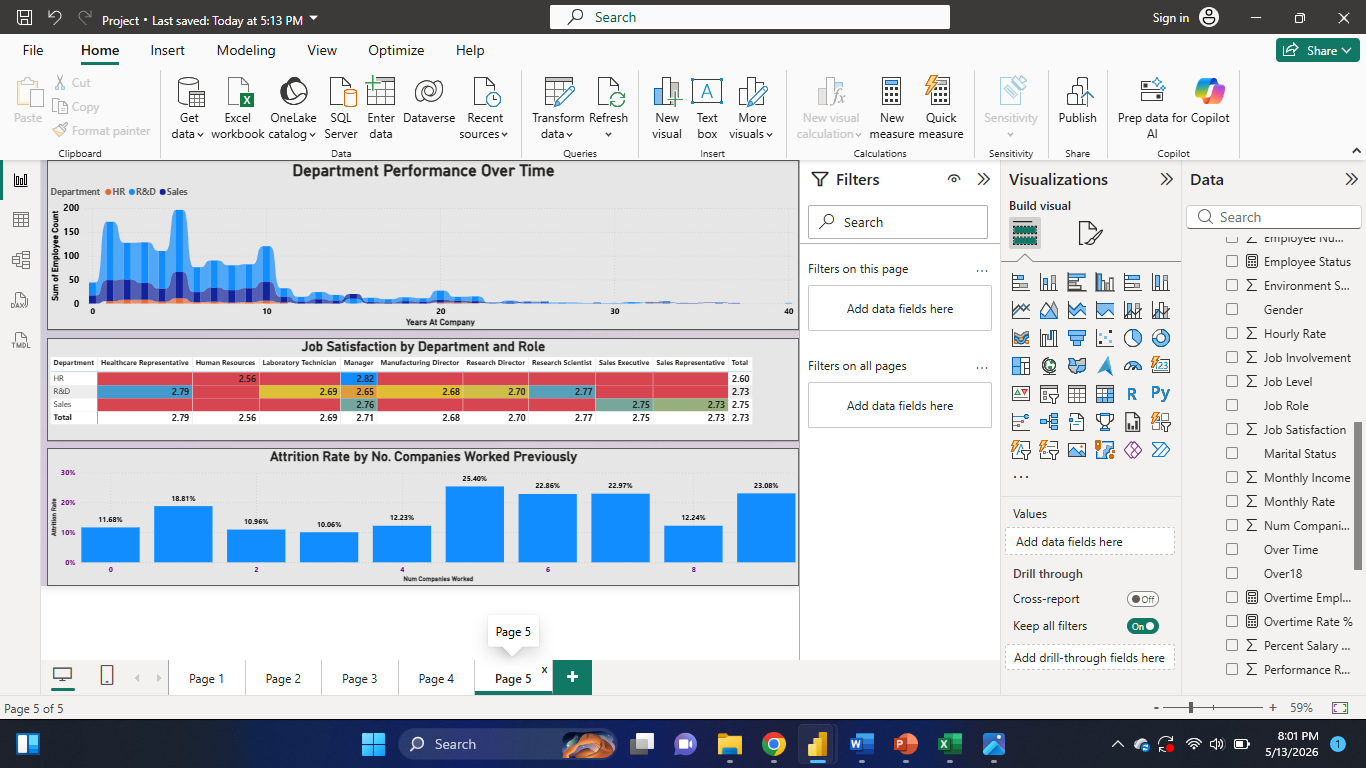

Layout of this report page (visuals, bound fields, positions):
{"tool":"powerbi","page":{"name":"Page 5","canvas":[1280,720],"ordinal":4},"visuals":[{"type":"ribbonChart","title":"Department Performance Over Time","fields":{"Category":["HR data.Years At Company"],"Y":["Sum(HR data.Employee Count)"],"Series":["HR data.Department"]},"box":[10.1,0,1269.9,287.1],"z":0},{"type":"pivotTable","title":"Job Satisfaction by Department and Role","fields":{"Rows":["HR data.Department"],"Columns":["HR data.Job Role"],"Values":["Avg(HR data.Job Satisfaction)"]},"box":[10.1,300.6,1269.9,173.9],"z":1000},{"type":"columnChart","title":"Attrition Rate by No. Companies Worked Previously","fields":{"Y":["HR data.Attrition Rate"],"Category":["HR data.Num Companies Worked"]},"box":[10.1,486.3,1269.9,233],"z":2000}]}

Visuals, with their boxes on the page's 1280x720 design canvas (x1, y1, x2, y2). These are canvas units, not pixel positions in the 1366x768 screenshot, which may show the page scaled, cropped or inside an application window:
"Department Performance Over Time" ribbonChart: [10, 0, 1280, 287]
"Job Satisfaction by Department and Role" pivotTable: [10, 301, 1280, 474]
"Attrition Rate by No. Companies Worked Previously" columnChart: [10, 486, 1280, 719]
